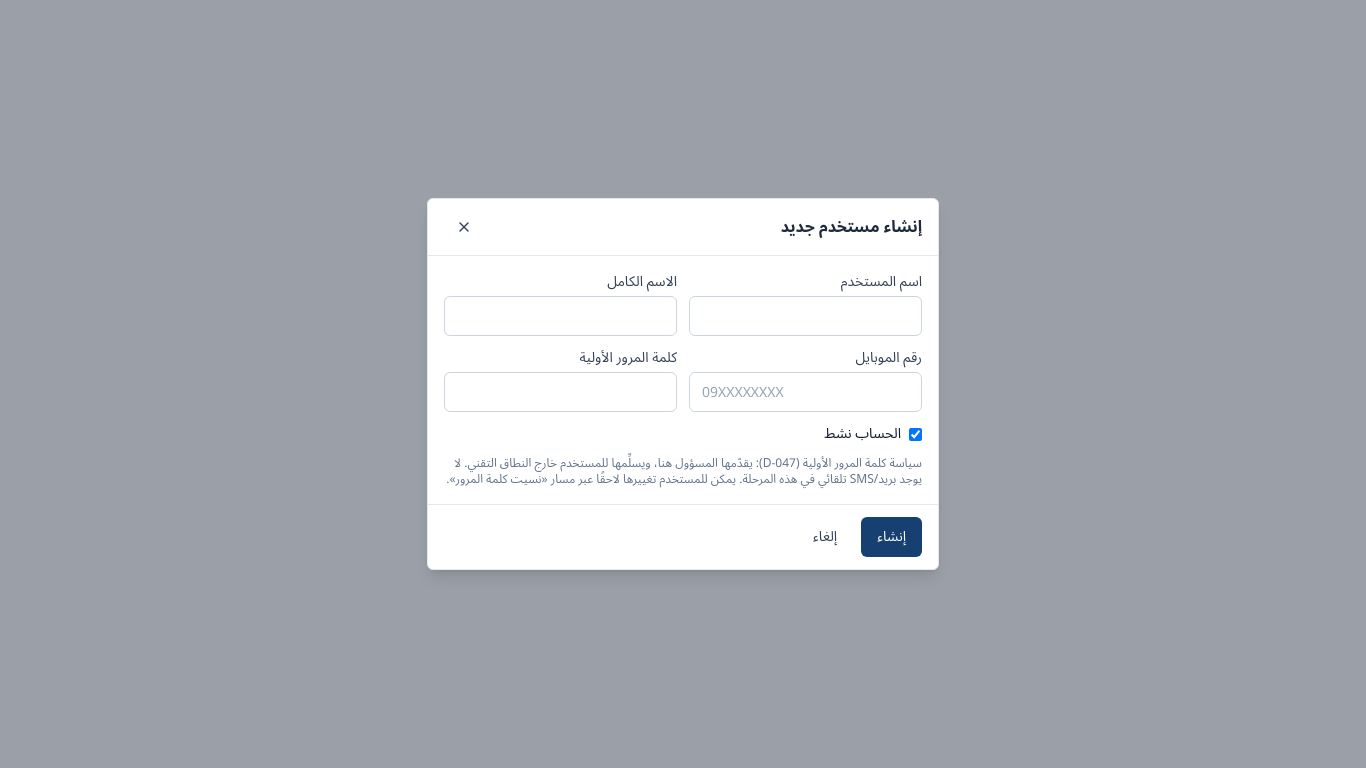
Test: CreateUserModal › rejects malformed mobile number
Type "abc" into the field labelled "اسم المستخدم" at (806, 316), box top-left (689, 296), bottom-right (922, 336)
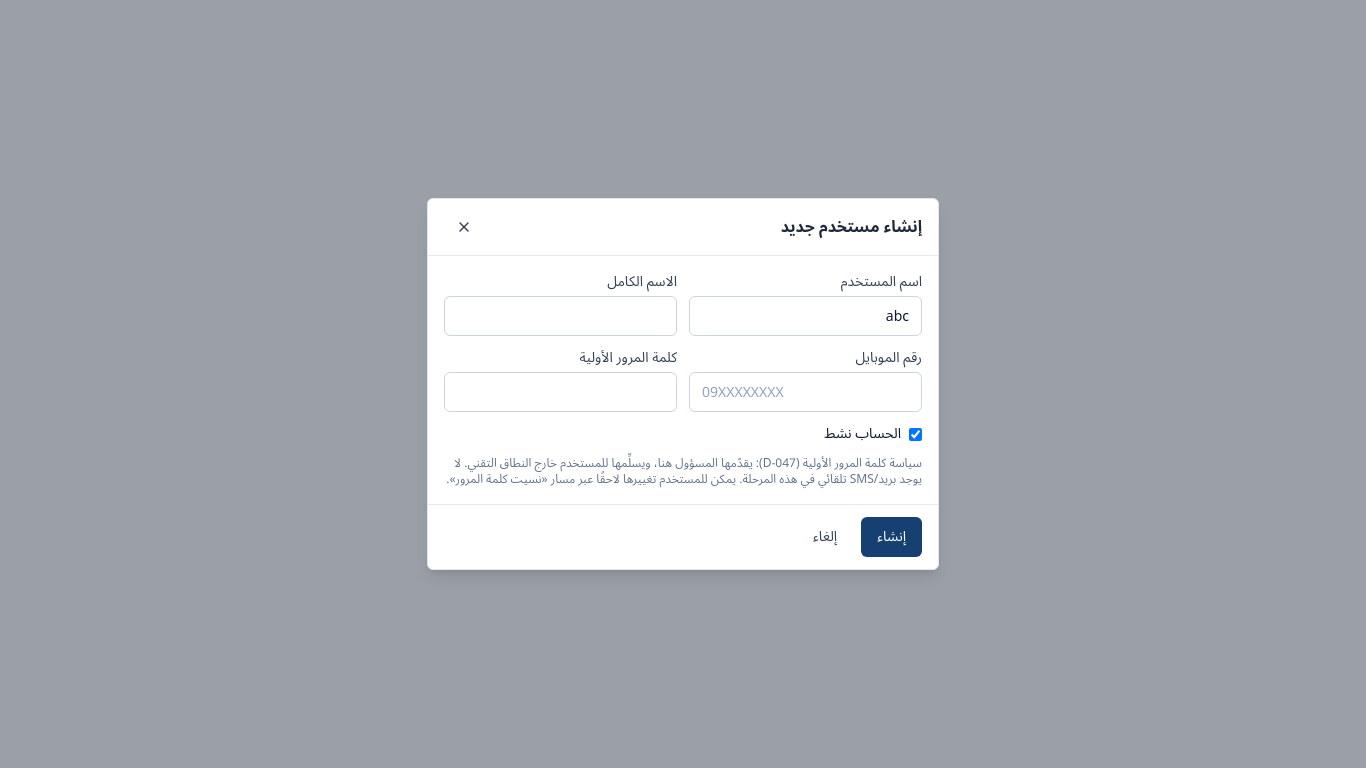
Type "فلان" into the field labelled "الاسم الكامل" at (560, 316), box top-left (444, 296), bottom-right (677, 336)
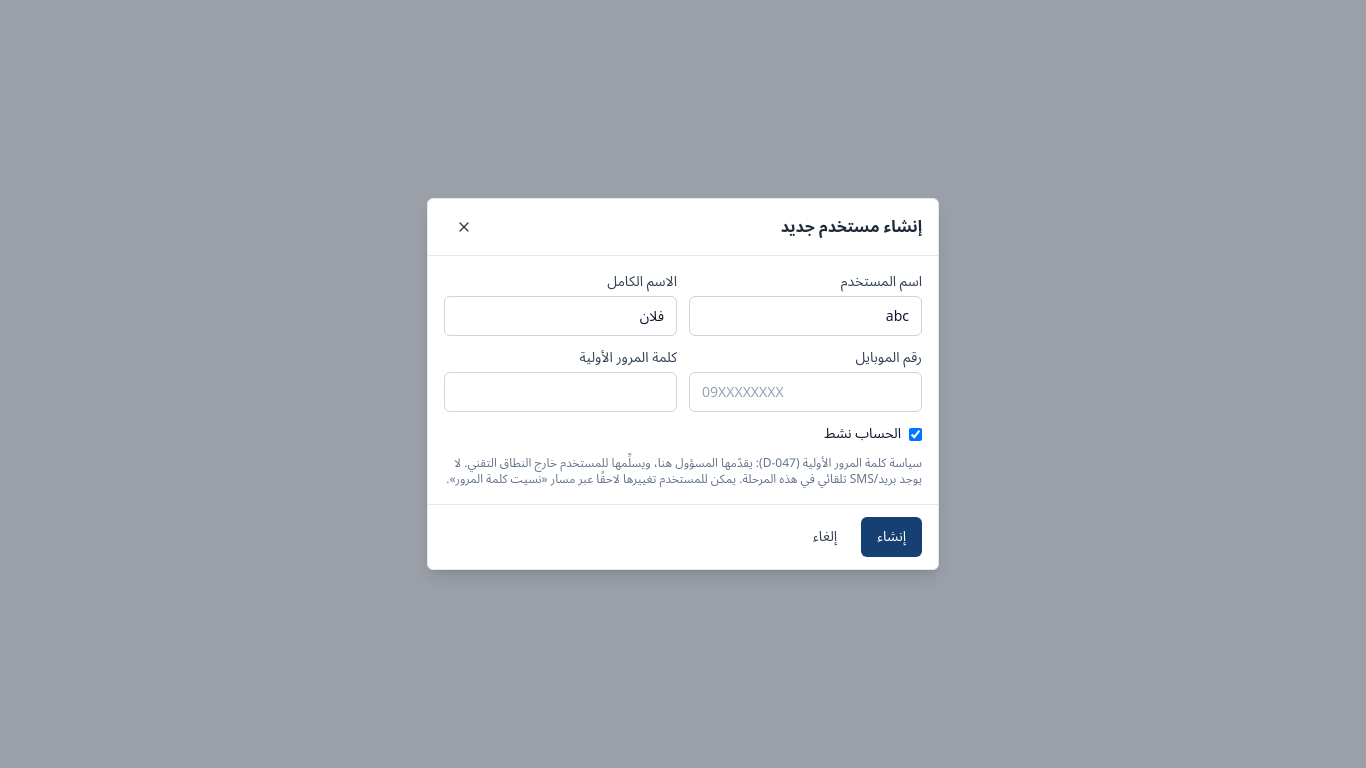
Type "0123456789" into the field labelled "رقم الموبايل" at (806, 392), box top-left (689, 372), bottom-right (922, 412)
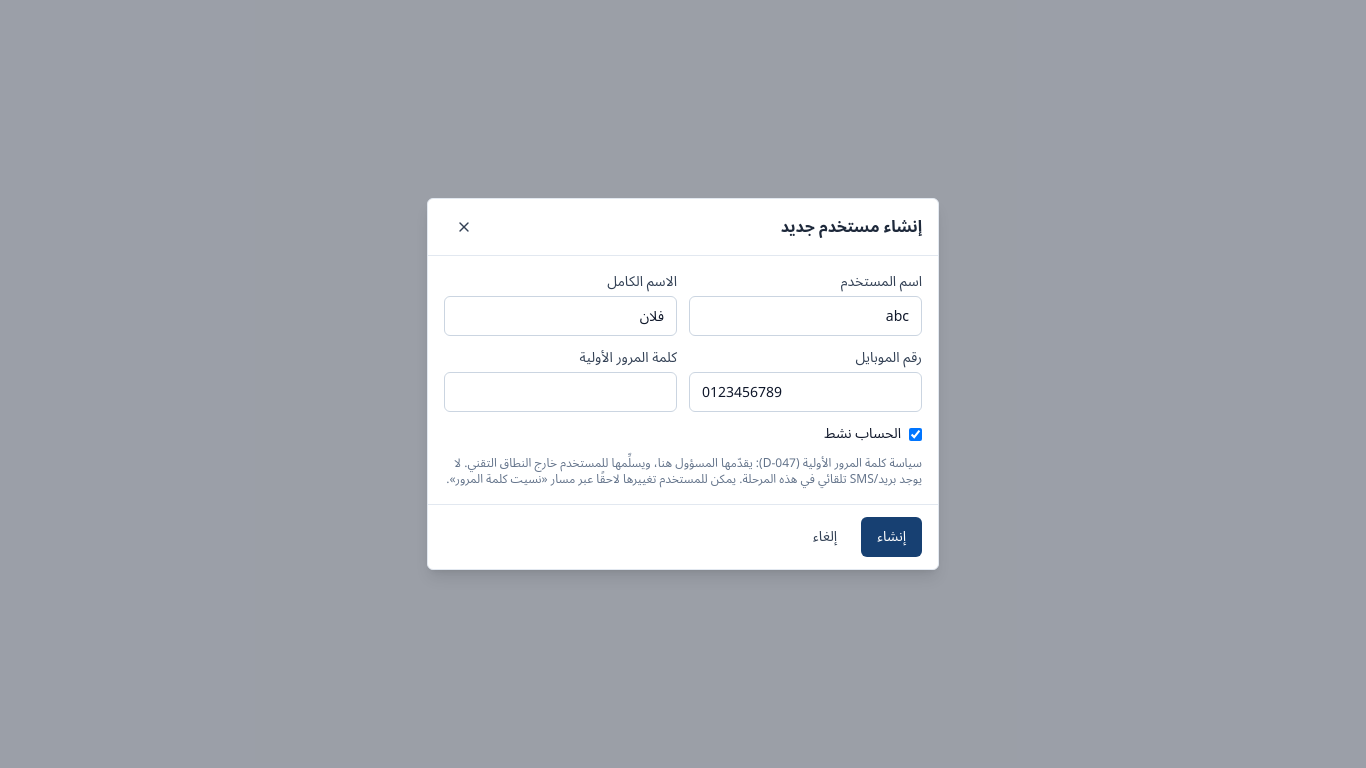
Type "Strong#1234" into the password field labelled "كلمة المرور الأولية" at (560, 392), box top-left (444, 372), bottom-right (677, 412)
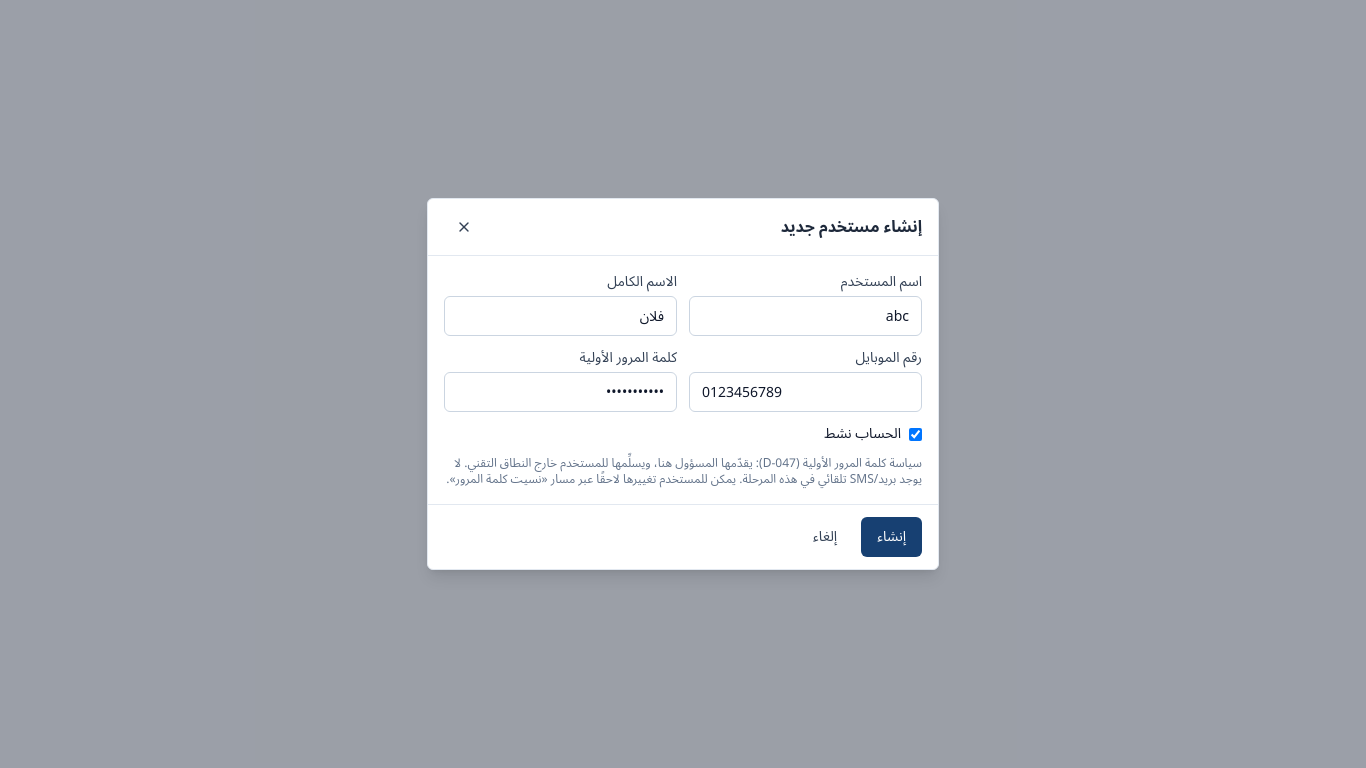
Submit the form with test id "admin-user-form", box top-left (444, 272), bottom-right (922, 488)
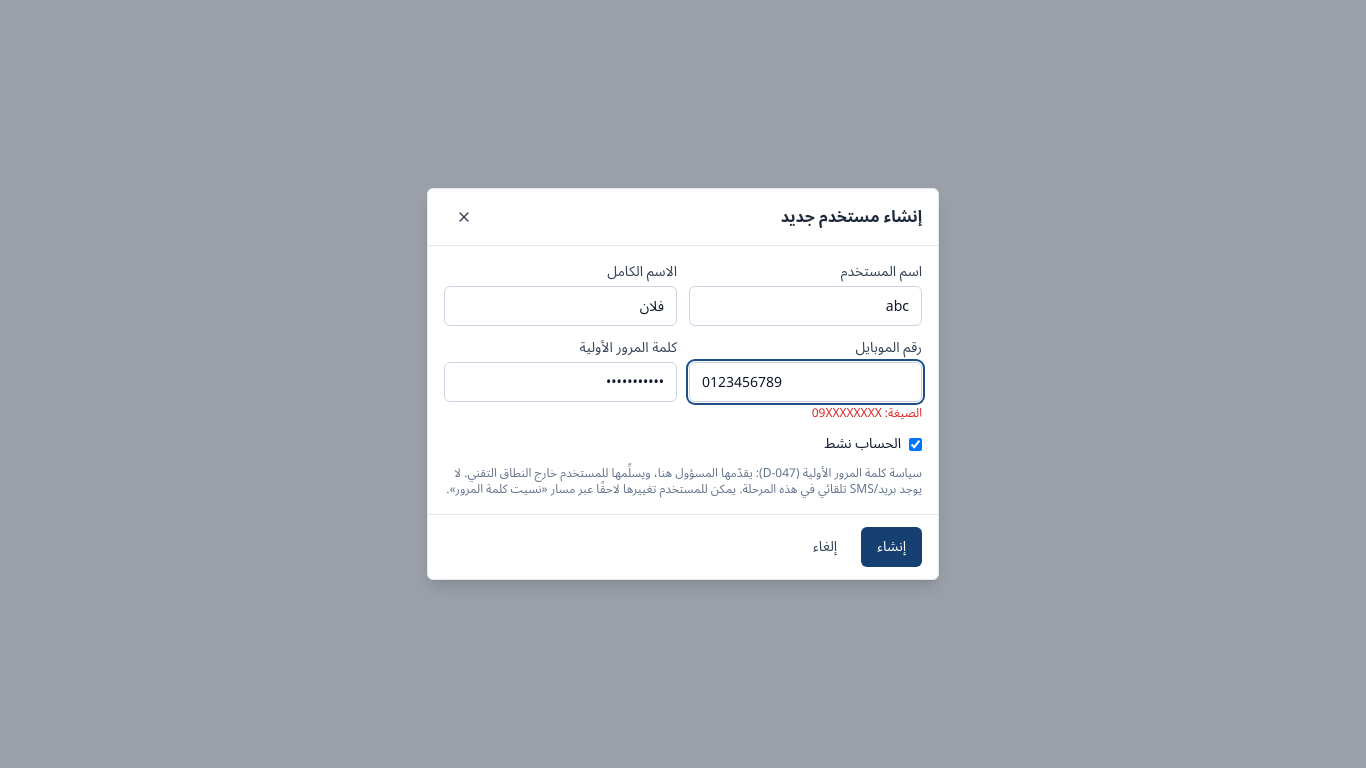
Result: the text "الصيغة: 09XXXXXXXX" is shown at top-left (812, 401), bottom-right (922, 426)
